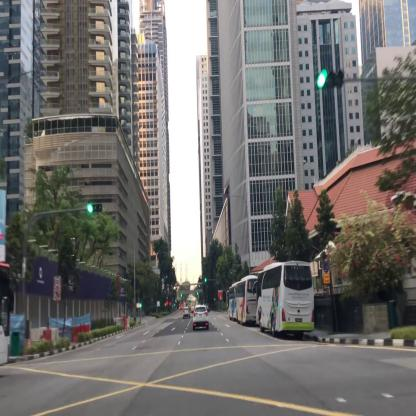green_traffic_light: (317, 73, 343, 86), (88, 203, 102, 212)
